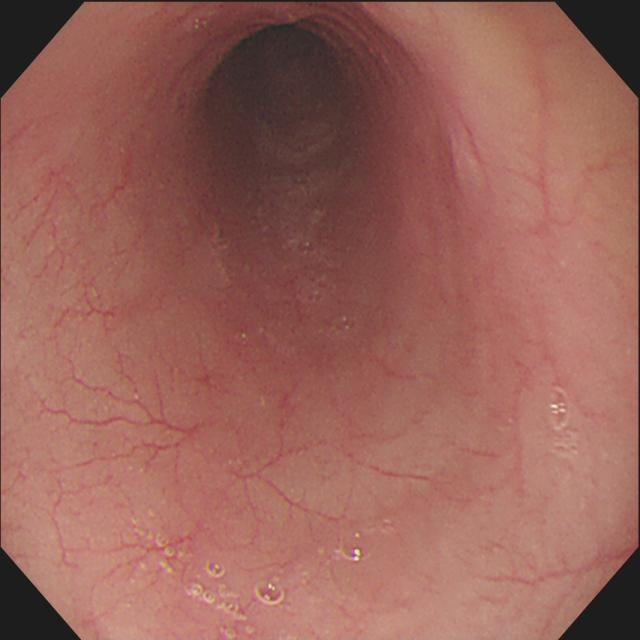E: (210, 27, 357, 194)
T: (148, 532, 288, 638), (546, 386, 579, 456), (336, 528, 376, 567)
